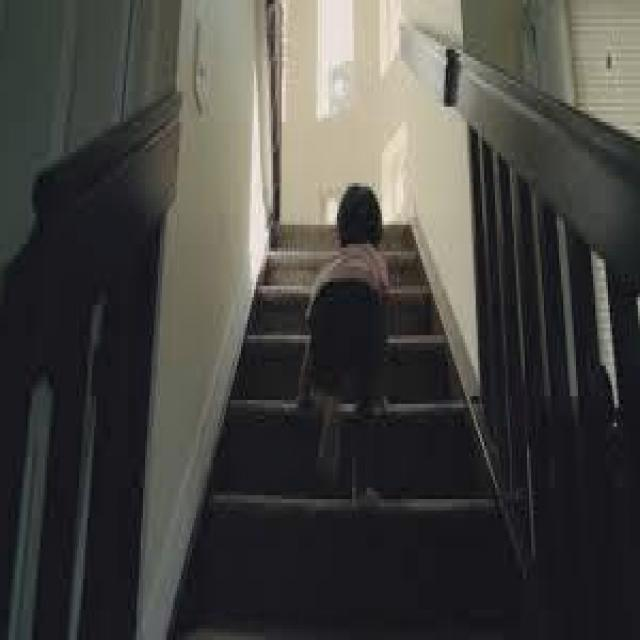child: (286, 168, 395, 518)
